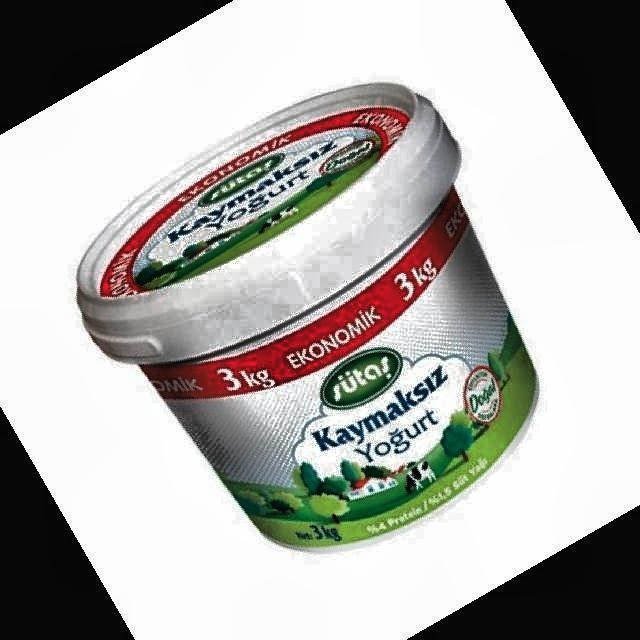plastic: (78, 82, 539, 549)
